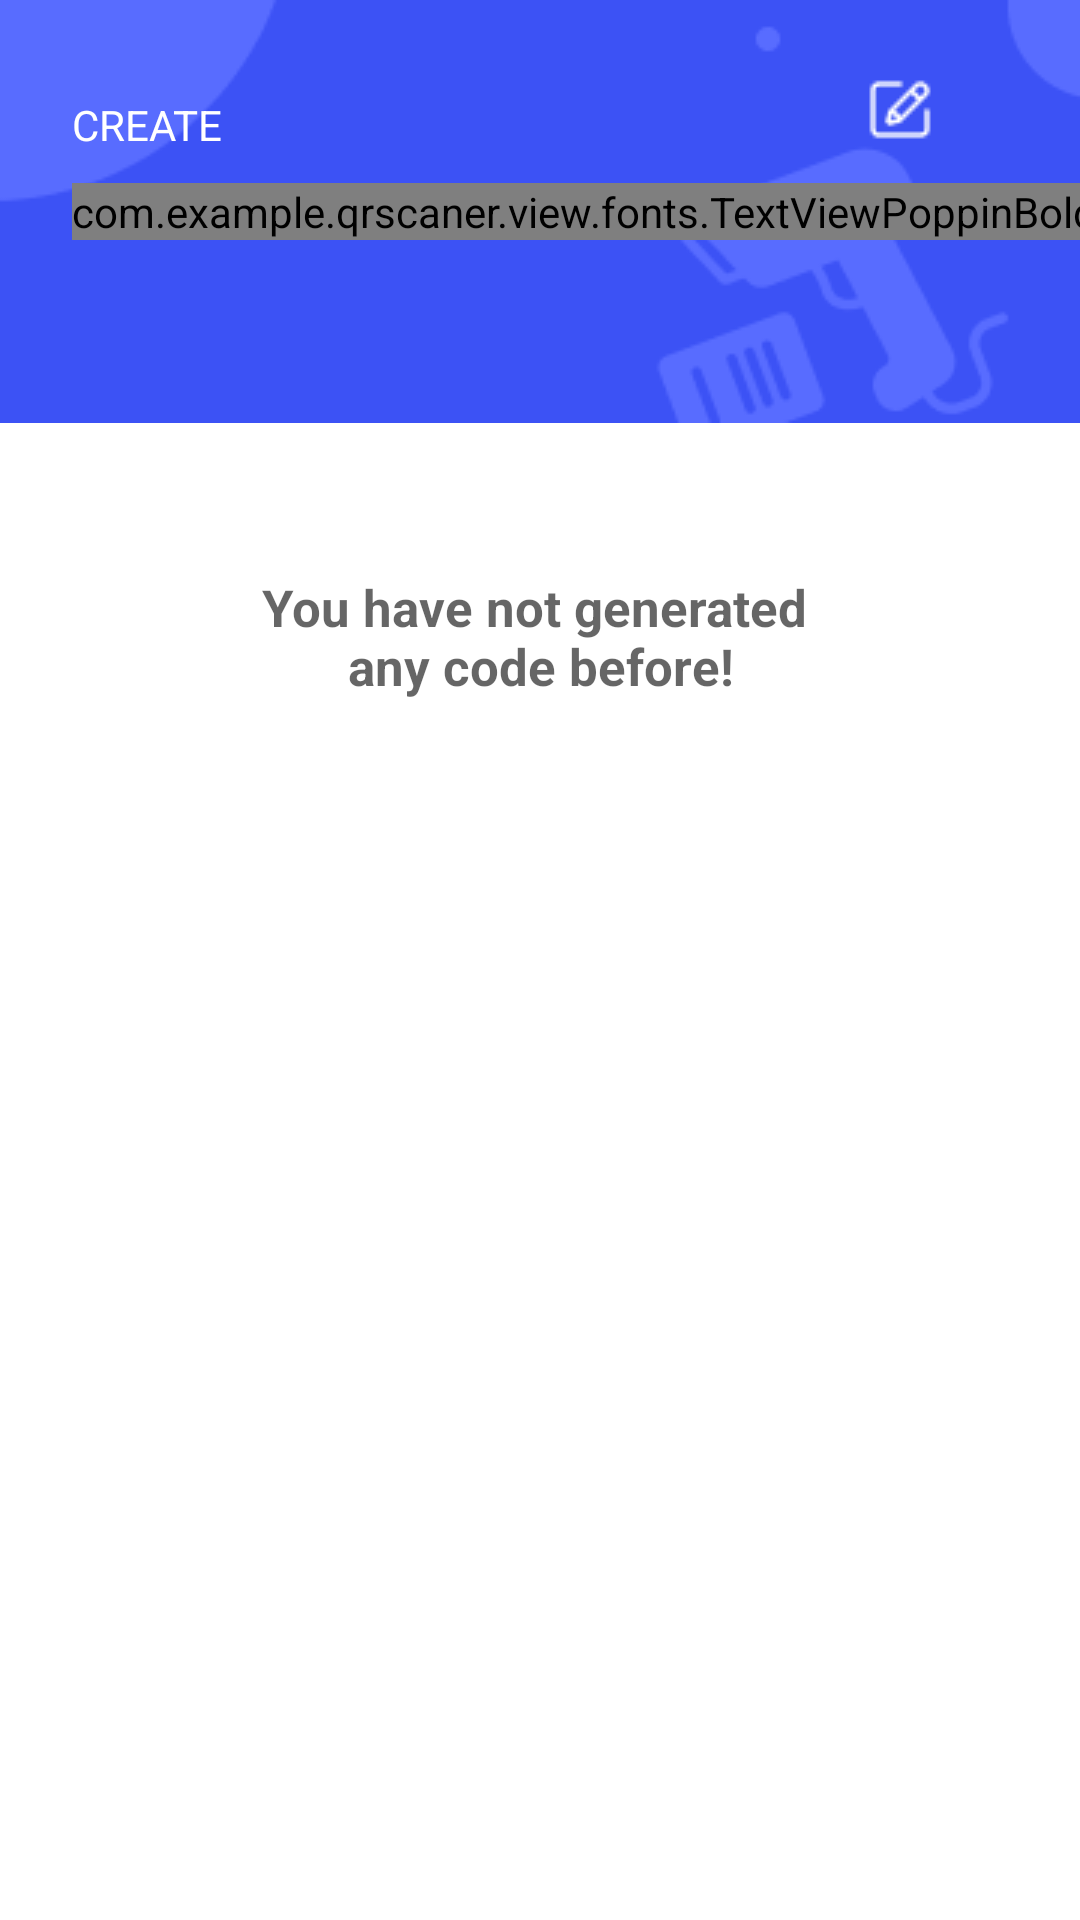

Locate icon controls on the screen. Image size 1080w x 1920h, boxes as region(x1, y1, x2, y2).
imv pen edit: region(869, 80, 931, 139)
